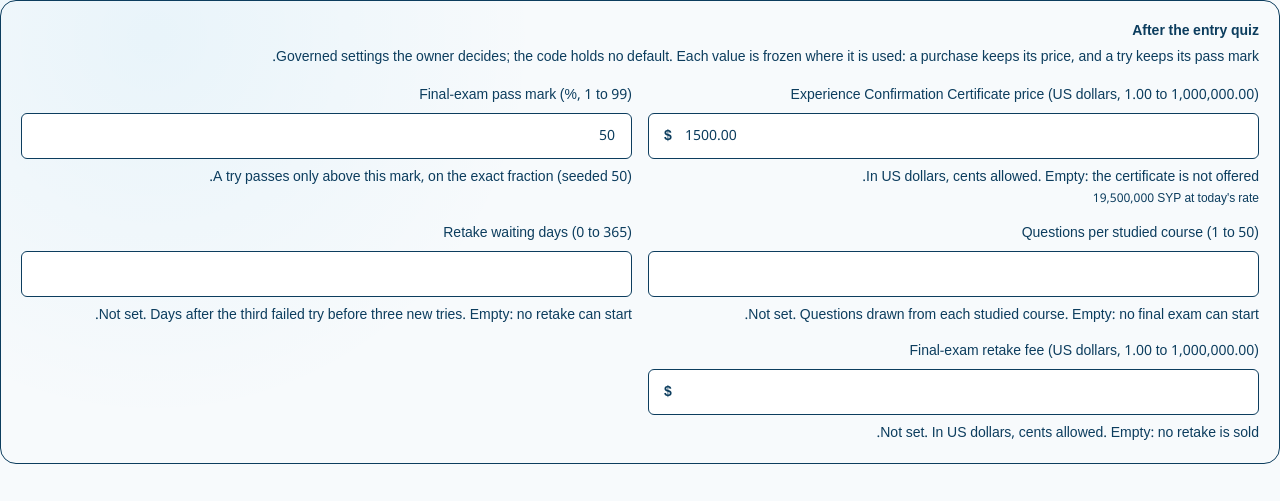
Test case: the after-quiz settings block › shows a held price in dollars, takes cents, and sends whole US cents
Expected: the field labelled "Experience Confirmation Certificate price (US dollars, 1.00 to 1,000,000.00)" holds "1500.00", top-left (648, 113), bottom-right (1259, 159)
Expected: the text "19,500,000 SYP at today's rate" is shown, top-left (1093, 186), bottom-right (1259, 211)
In the field labelled "Final-exam retake fee (US dollars, 1.00 to 1,000,000.00)": [954, 392] box top-left (648, 369), bottom-right (1259, 415), type "5.50"
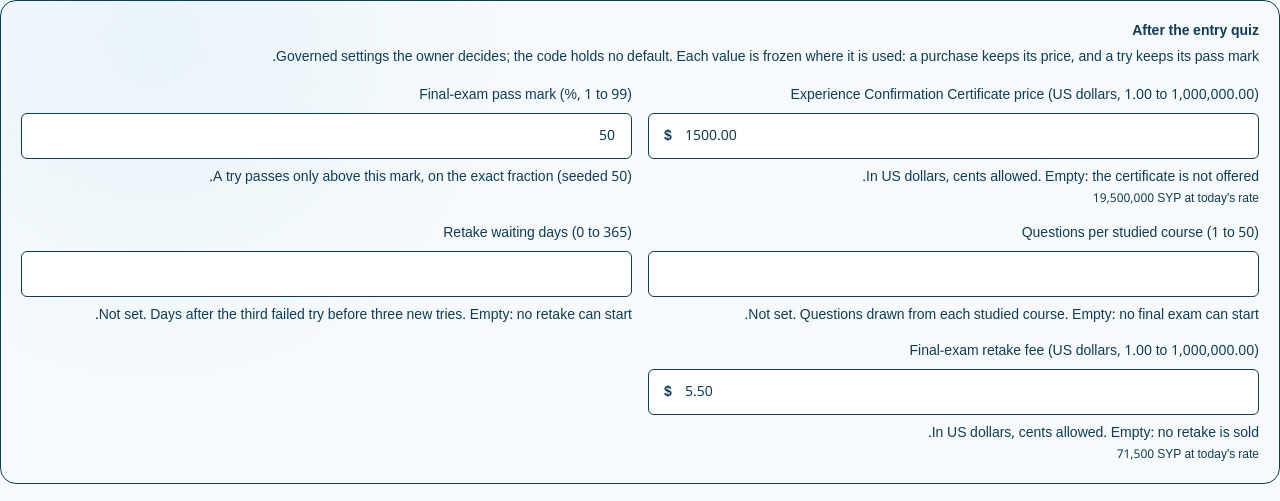
Now the text "71,500 SYP at today's rate" is shown, box top-left (1117, 442), bottom-right (1259, 467)
